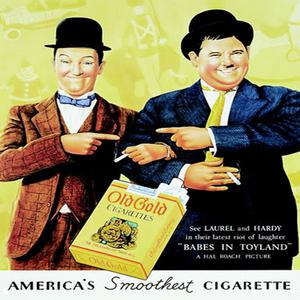cigarette: (110, 150, 135, 164), (225, 168, 242, 187)
